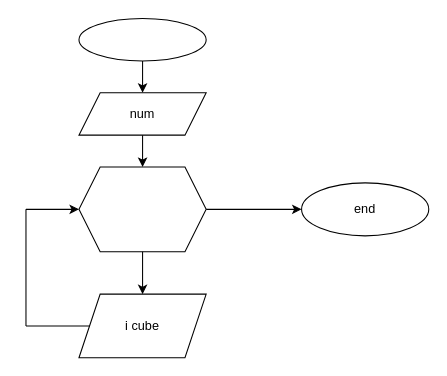
The diagram is 447 pixels wide and 376 high, and some of its shapes have lost their labels. Here are the shapes that lost their labels. From the top down, the centre of each, then its label:
the point at 142,39: start
the point at 142,209: i=1; i<num; i++
